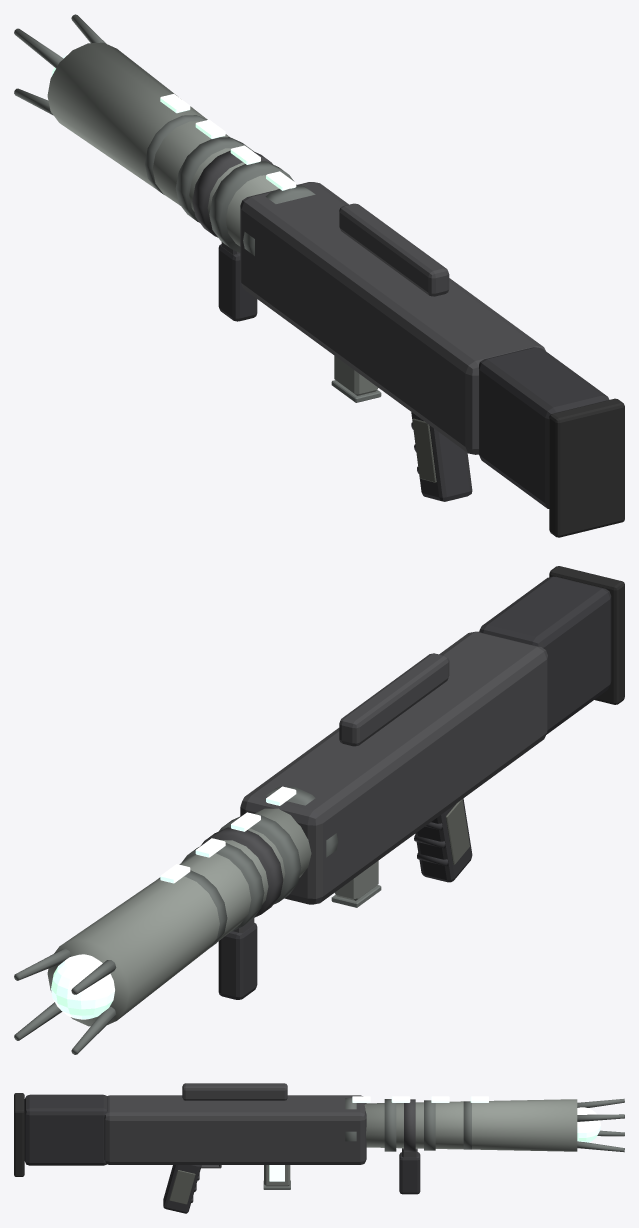
The model's file is plasma_cannon.glb.
The picture shows the model from 3 angles, top to bottom: view 1: azimuth 30°, elevation 25°; view 2: azimuth 150°, elevation 25°; view 3: azimuth 270°, elevation 25°; orthographic projection. The views are drawn at different scales.
Visible parts, largest first — view 1: Plasma_cannon; view 2: Plasma_cannon; view 3: Plasma_cannon.
Boxes of the visible parts, <box> form: Plasma_cannon: <box>14,14,624,537</box>; Plasma_cannon: <box>14,566,624,1054</box>; Plasma_cannon: <box>14,1083,624,1213</box>.
Bounding box in the file's own units: 0.104 × 0.263 × 1.16.
